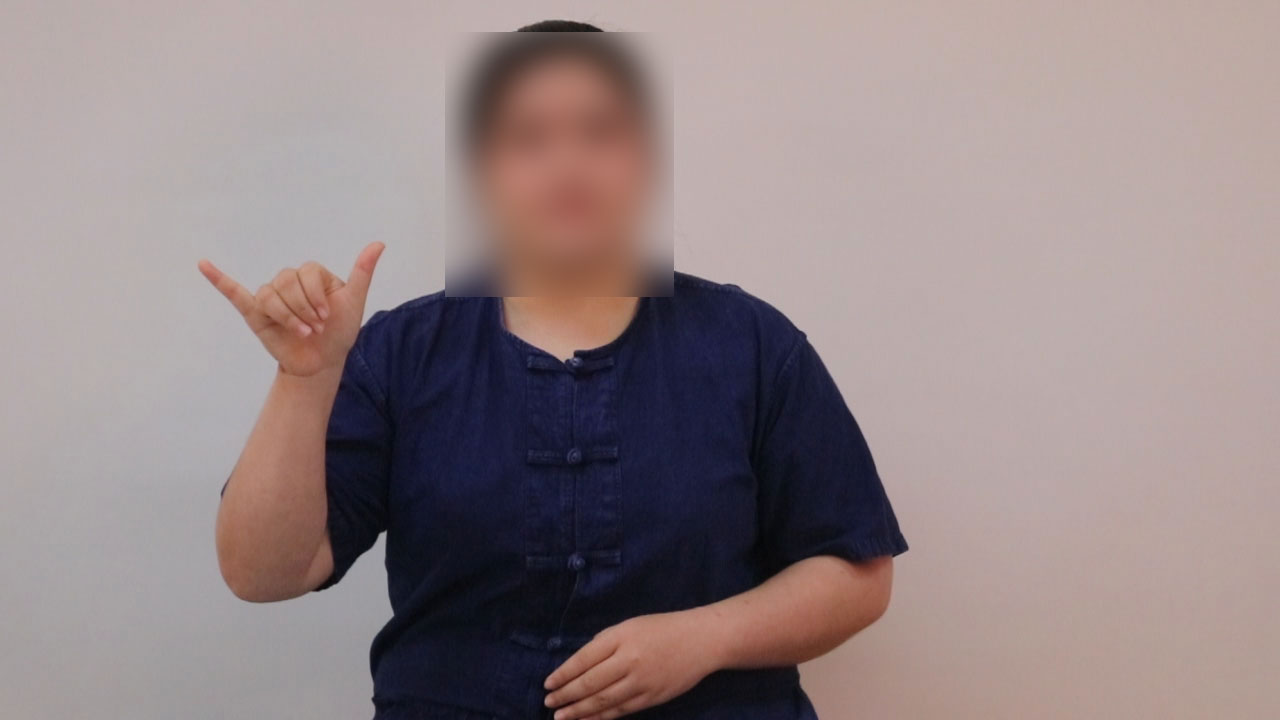yor: (192, 232, 397, 385)
